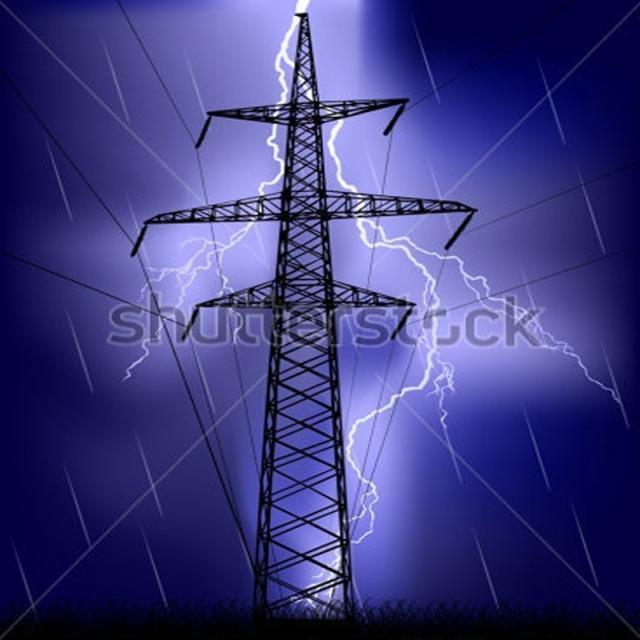non-critical vegetation: (165, 10, 476, 616)
